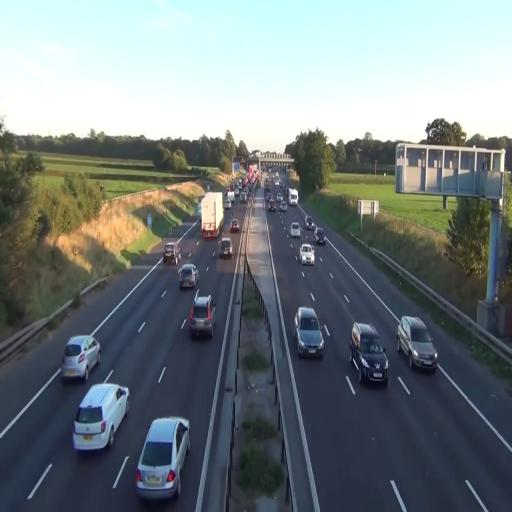vehicle: (135, 416, 191, 502), (72, 380, 130, 453), (350, 321, 389, 385), (397, 315, 438, 372), (61, 333, 100, 382), (294, 307, 326, 359), (186, 294, 216, 340), (200, 192, 224, 240), (200, 192, 223, 240), (178, 262, 198, 288), (163, 239, 182, 266), (300, 243, 314, 264), (220, 238, 233, 257), (289, 221, 303, 238), (316, 231, 326, 245)
